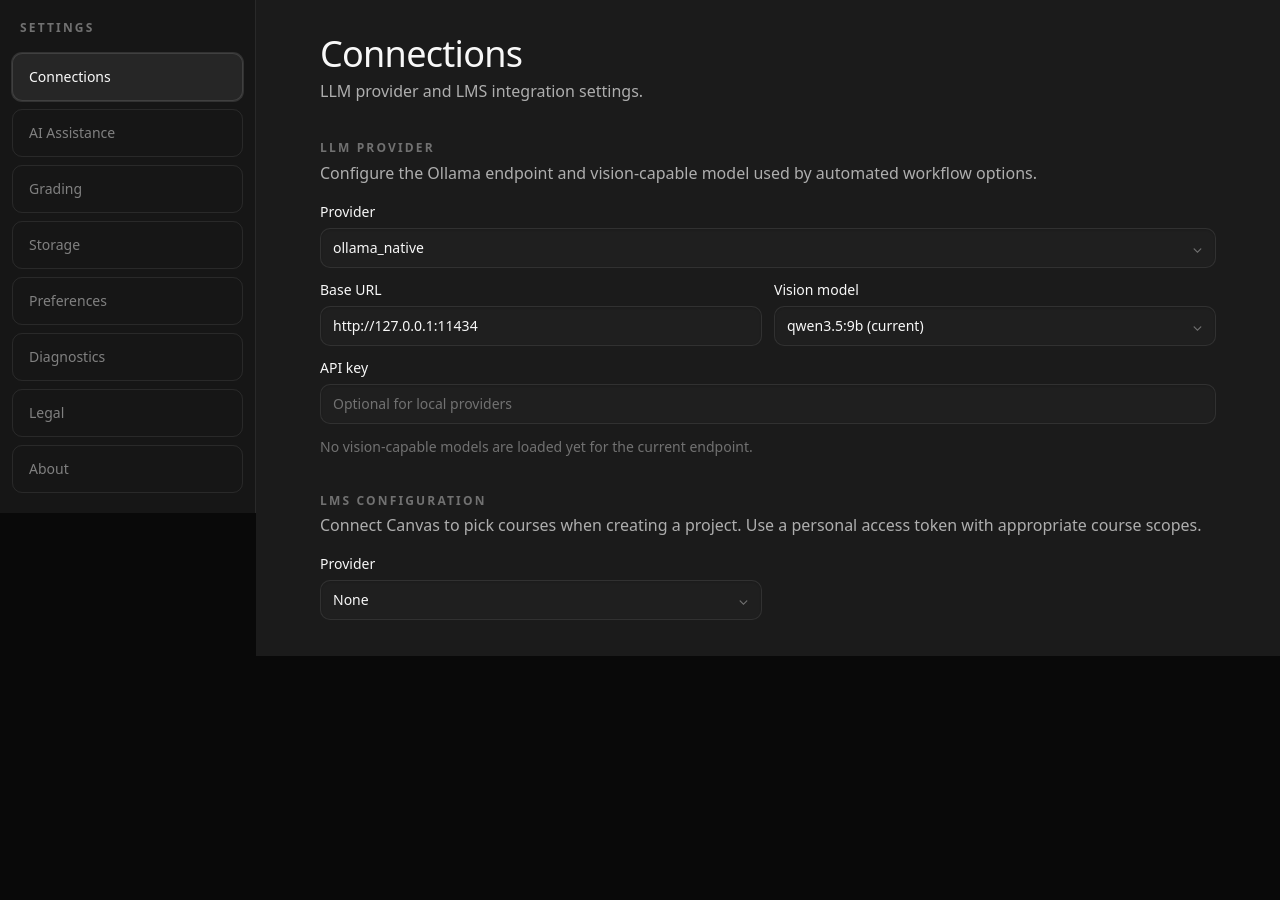
Test: SettingsWorkspace › defaults to Connections and switches settings categories from the sidebar
expect the heading "Connections" is shown: met, box [320,29,522,78]
Click the button "Grading".
click(128, 189)  # box [12,165,243,213]
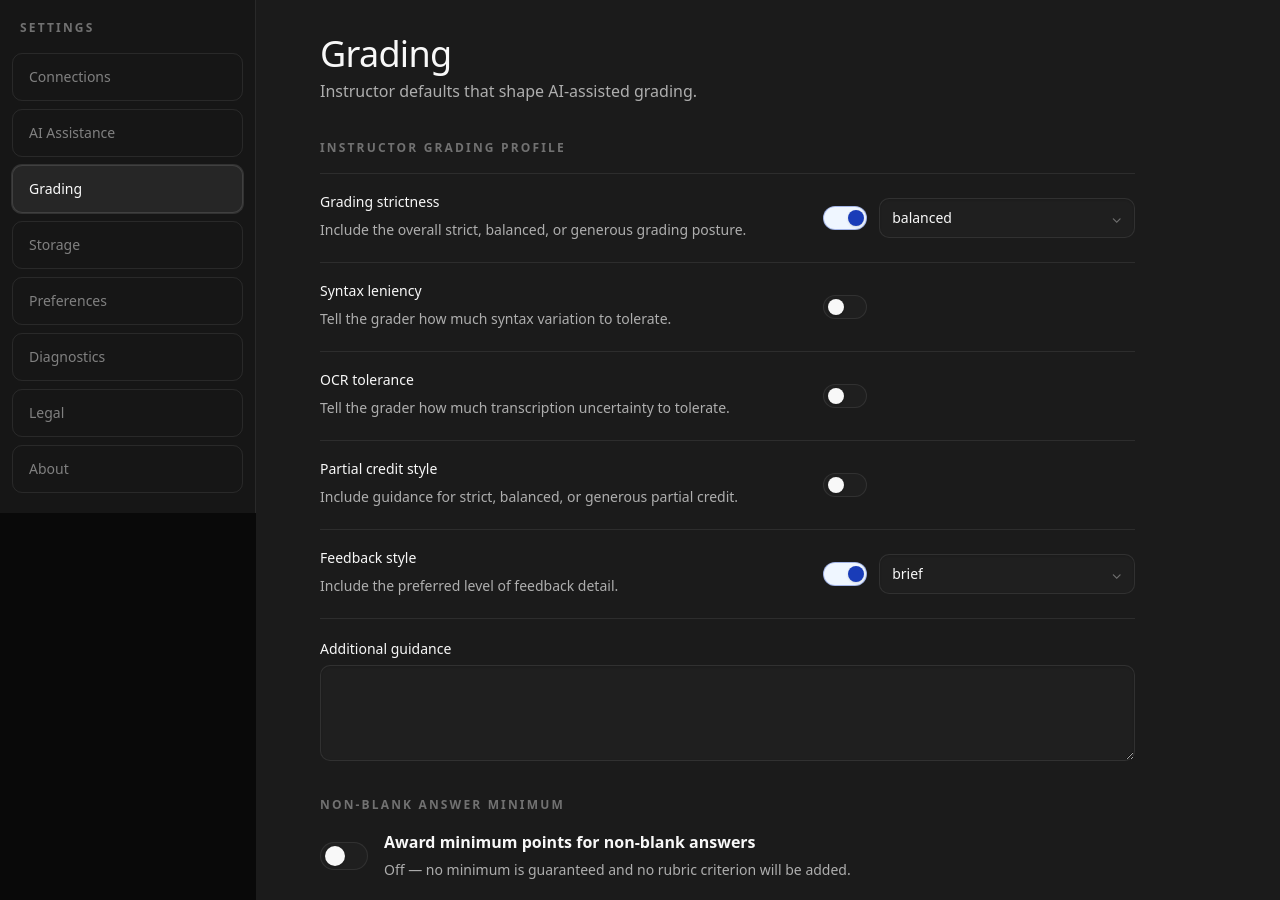
expect the heading "Grading" is shown: met, box [320,29,451,78]
Click the button "AI Assistance".
click(128, 133)  # box [12,109,243,157]
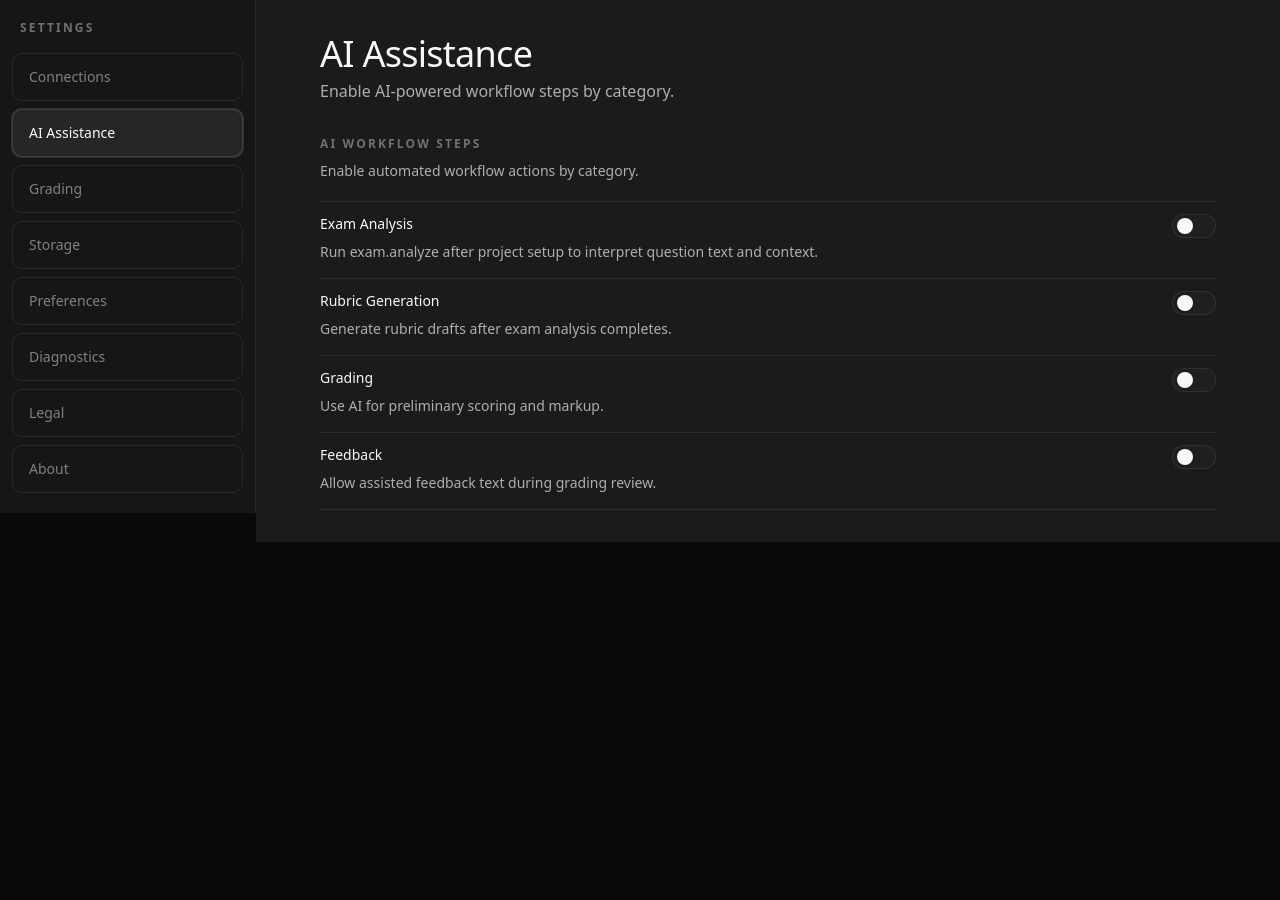
expect the heading "AI Assistance" is shown: met, box [320,29,532,78]
